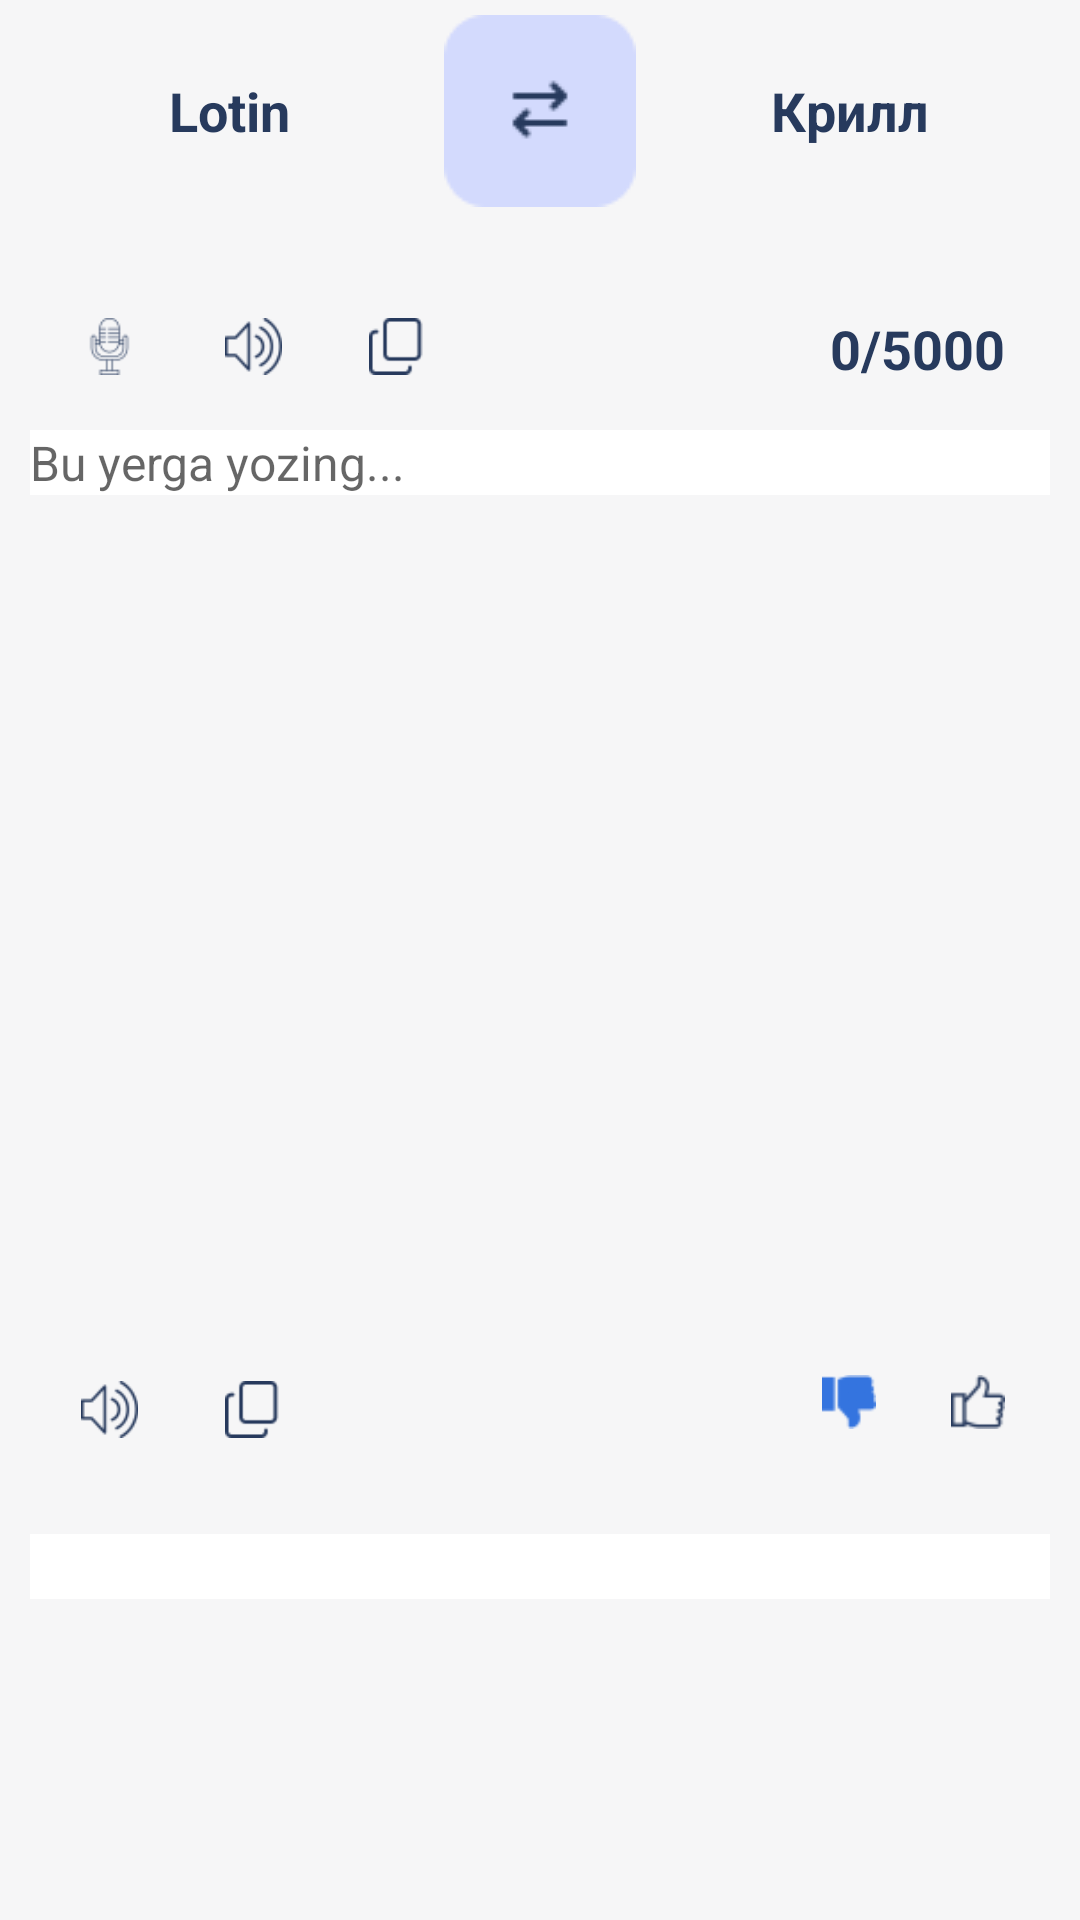

Icons on this 1080*1920 Android screen, each with the point to tap as point (x, y):
dislike: point (849, 1402)
like: point (978, 1402)
microphone: point (109, 346)
speaker: point (253, 346), point (109, 1409)
